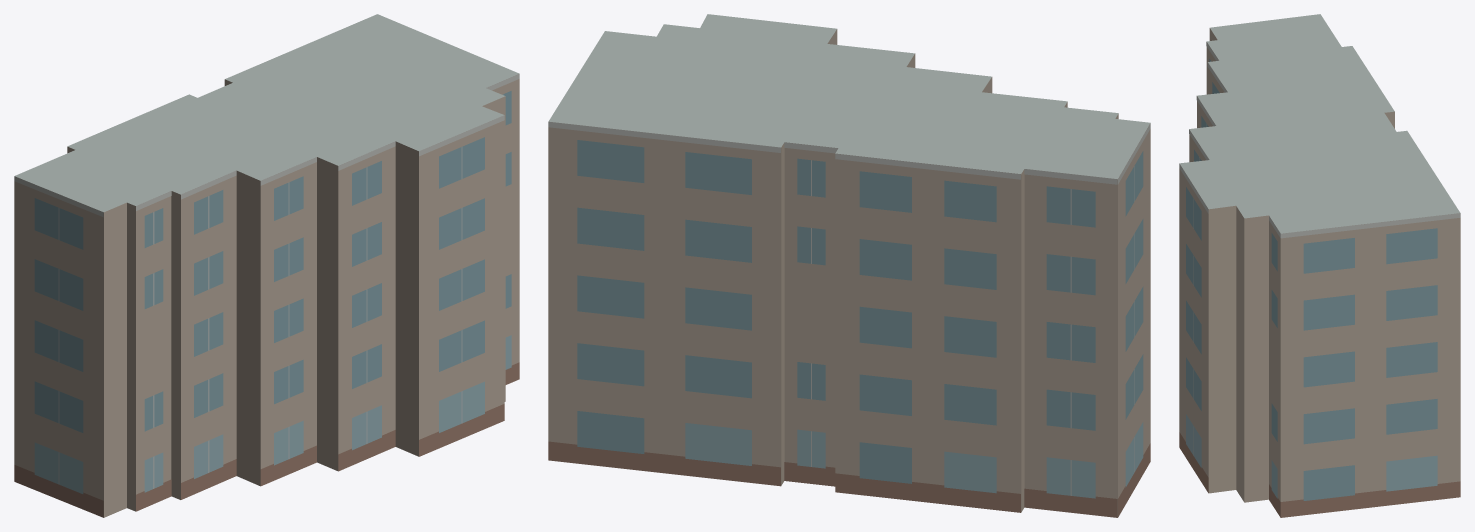
File: survey-upis-32666465.glb
3 renders of one model, left to right at view 1: azimuth 30°, elevation 25°; view 2: azimuth 150°, elevation 25°; view 3: azimuth 270°, elevation 25°, orthographic. The views are drawn at different scales.
Parts seen in each view (by area): view 1: survey-upis-32666465.tmp; view 2: survey-upis-32666465.tmp; view 3: survey-upis-32666465.tmp.
Boxes of the visible parts, bbox=[...] form: survey-upis-32666465.tmp: bbox=[14, 14, 519, 517]; survey-upis-32666465.tmp: bbox=[548, 14, 1150, 517]; survey-upis-32666465.tmp: bbox=[1179, 14, 1460, 517].
Size of the model in its own units: 24.38 by 14.7 by 13.19.
